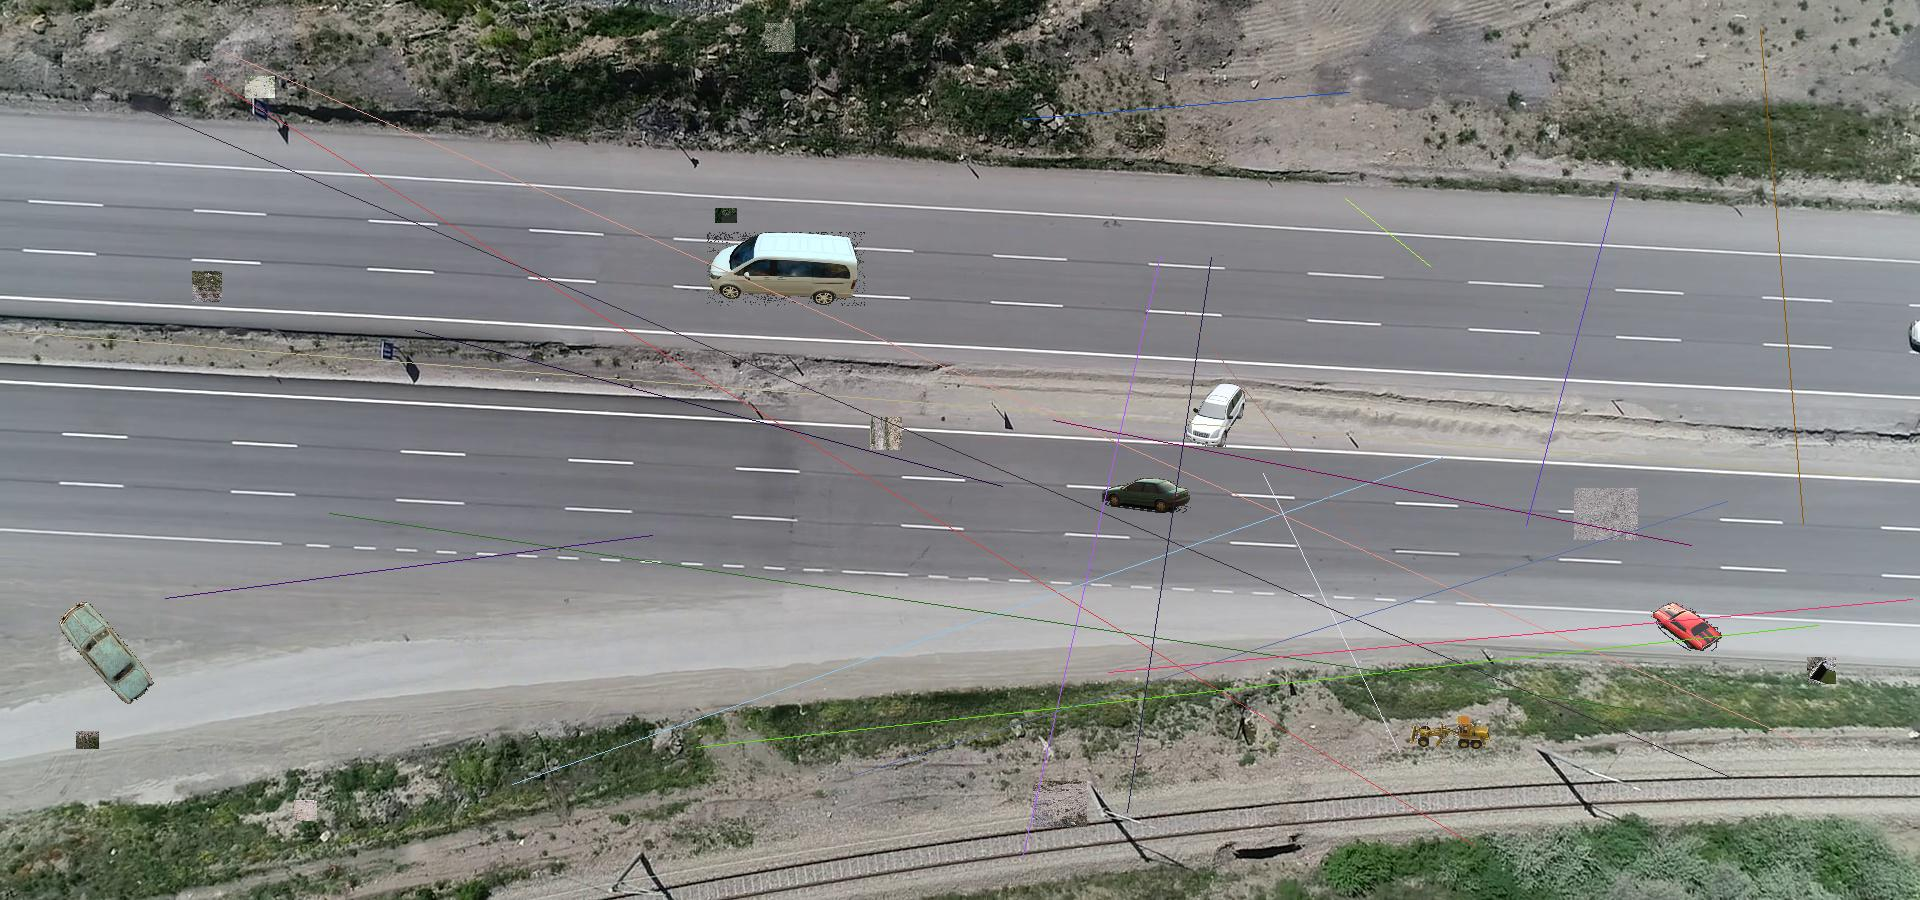arac: (707, 231, 864, 306), (56, 598, 157, 704), (1182, 381, 1250, 453), (1651, 600, 1723, 651), (1102, 476, 1191, 513), (1411, 713, 1491, 752)
